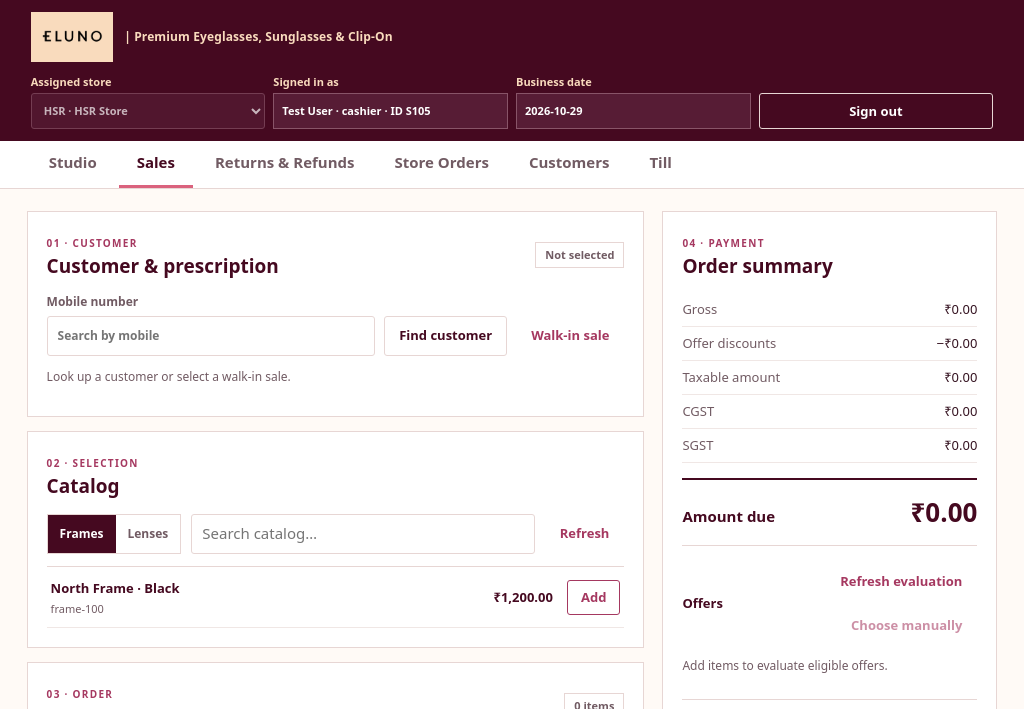
Test: browser POS workflows › clears the selected customer when its mobile number is edited
Type "9876543210" into the field labelled "Mobile number".
click(211, 336); type("9876543210")  # box x1=47 y1=316 x2=375 y2=356
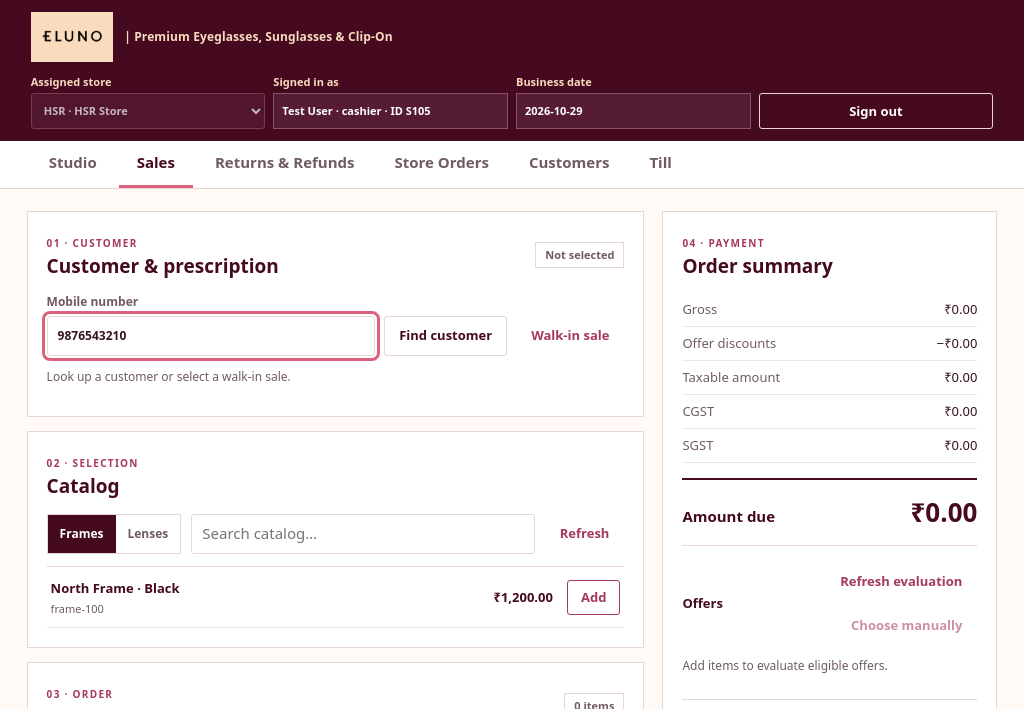
Click the button "Find customer".
click(446, 336)  # box x1=384 y1=316 x2=507 y2=356
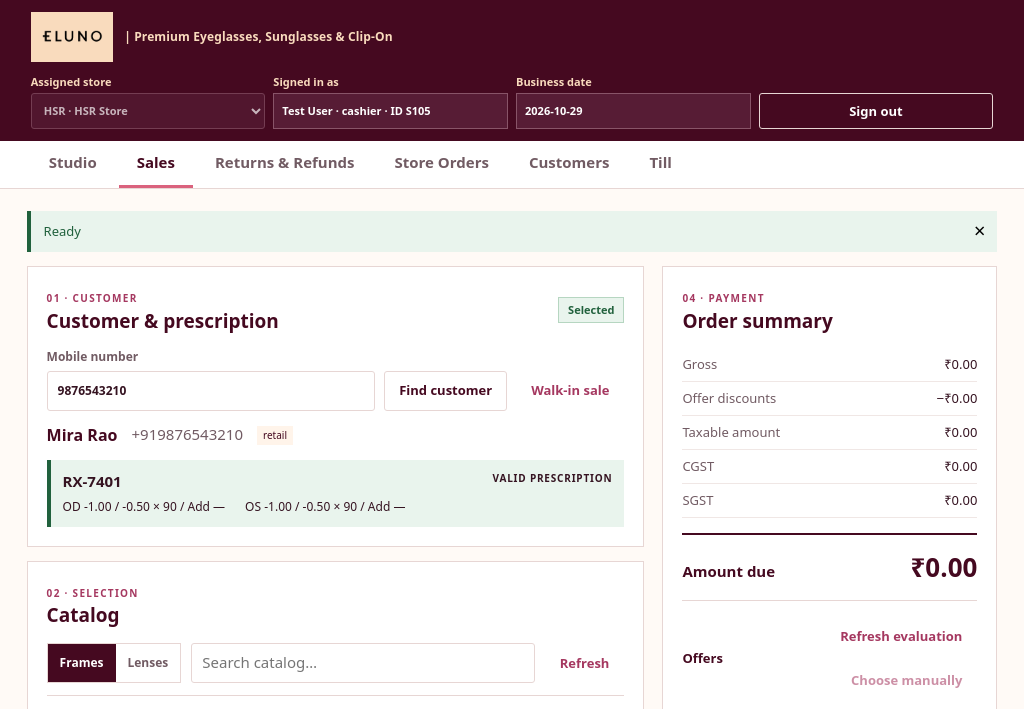
Check: the text "Mira Rao" is shown, box x1=47 y1=424 x2=118 y2=447
Type "1" into the field labelled "Mobile number".
click(211, 391); type("1")  # box x1=47 y1=371 x2=375 y2=411
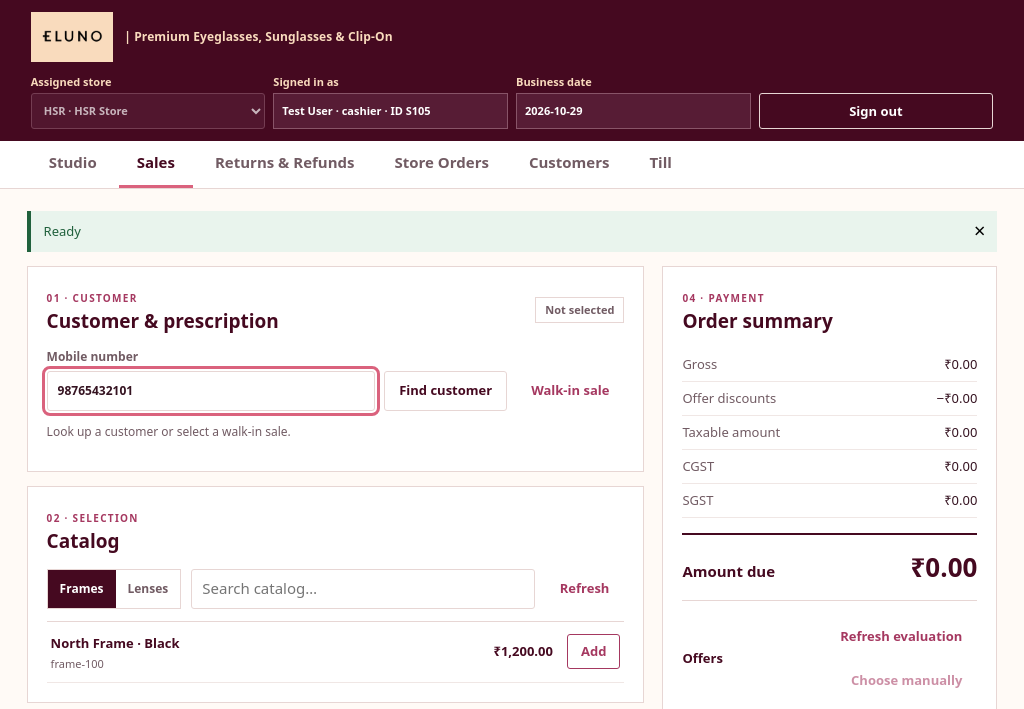
Check: the text "Mira Rao" is gone
